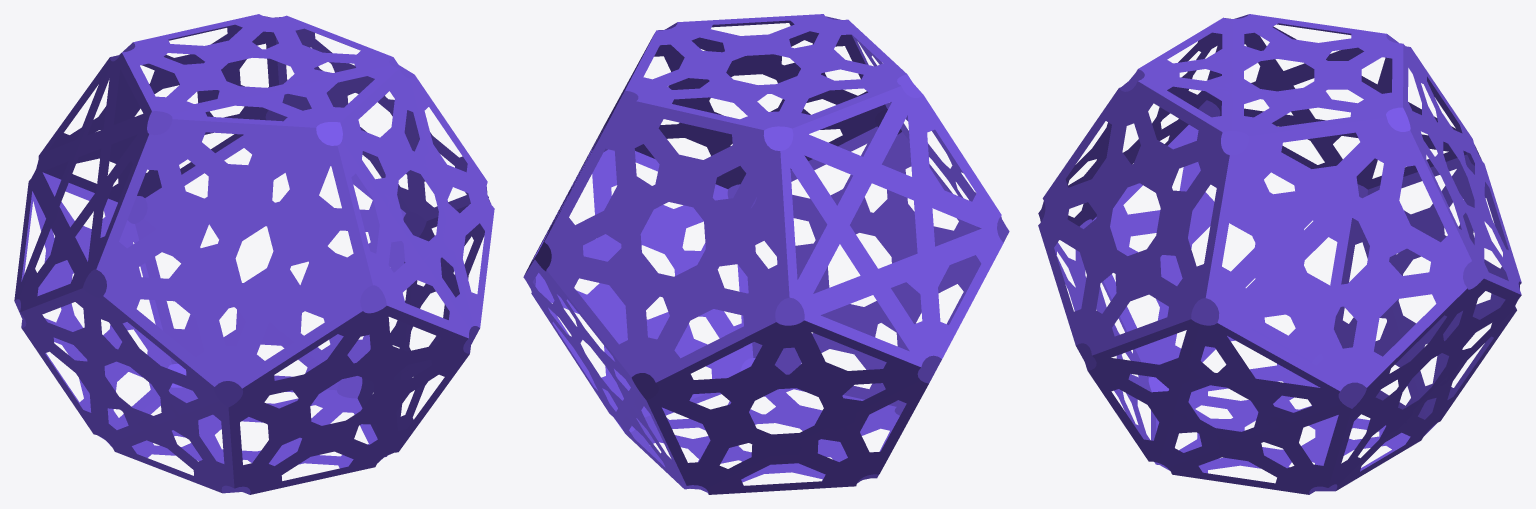
The model's file is dod.glb.
The picture shows the model from 3 angles, left to right: view 1: azimuth 30°, elevation 25°; view 2: azimuth 150°, elevation 25°; view 3: azimuth 270°, elevation 25°; orthographic projection.
Visible parts, largest first — view 1: Icosphere; view 2: Icosphere; view 3: Icosphere.
Boxes of the visible parts, x1,y1,x2,y2 form: Icosphere: (14,14,494,494); Icosphere: (523,14,1009,494); Icosphere: (1038,14,1521,494).
Bounding box in the file's own units: 1.49 × 1.28 × 1.53.
